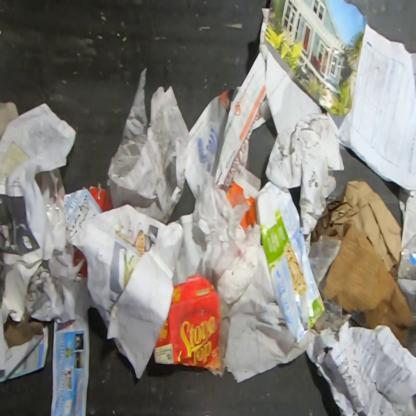cardboard: (322, 224, 415, 348), (154, 273, 221, 371), (82, 184, 111, 212), (73, 247, 87, 276)
rigid_plastic: (397, 231, 415, 282), (44, 199, 66, 226)
